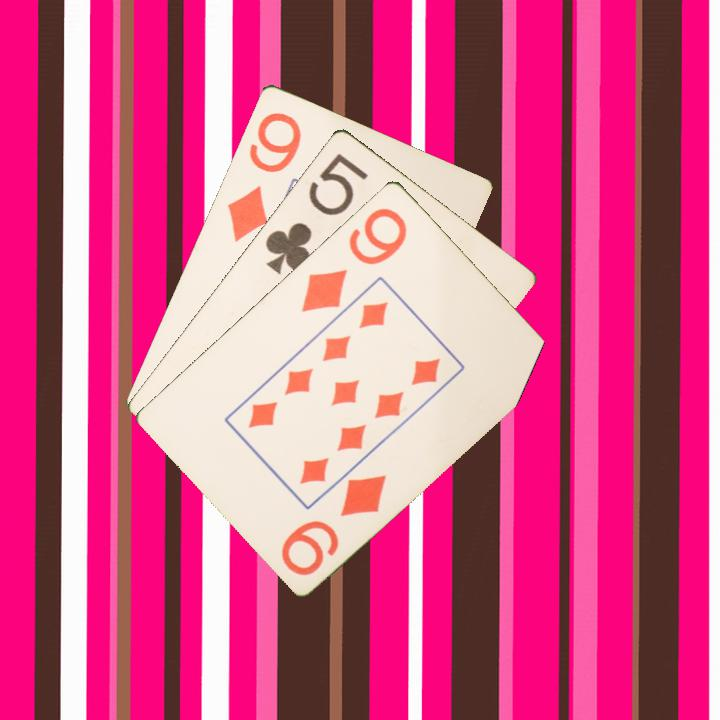5c: (261, 149, 371, 278)
9d: (297, 203, 410, 315), (277, 470, 390, 579), (223, 108, 304, 245)
